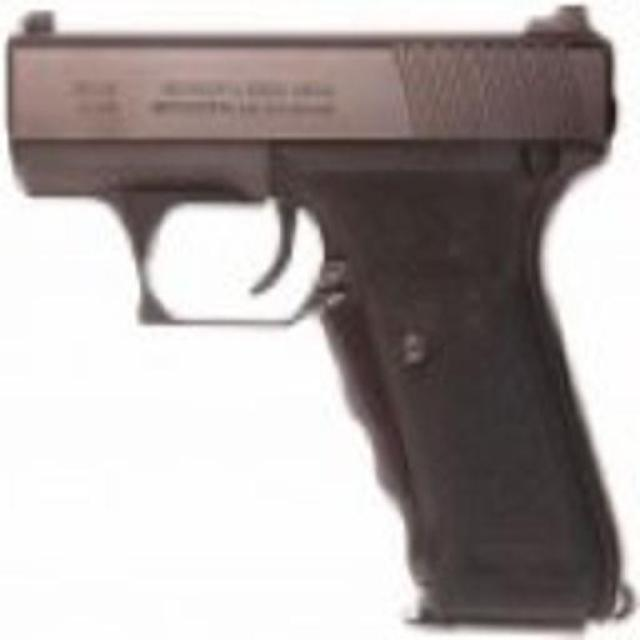pistol: (11, 5, 620, 629)
